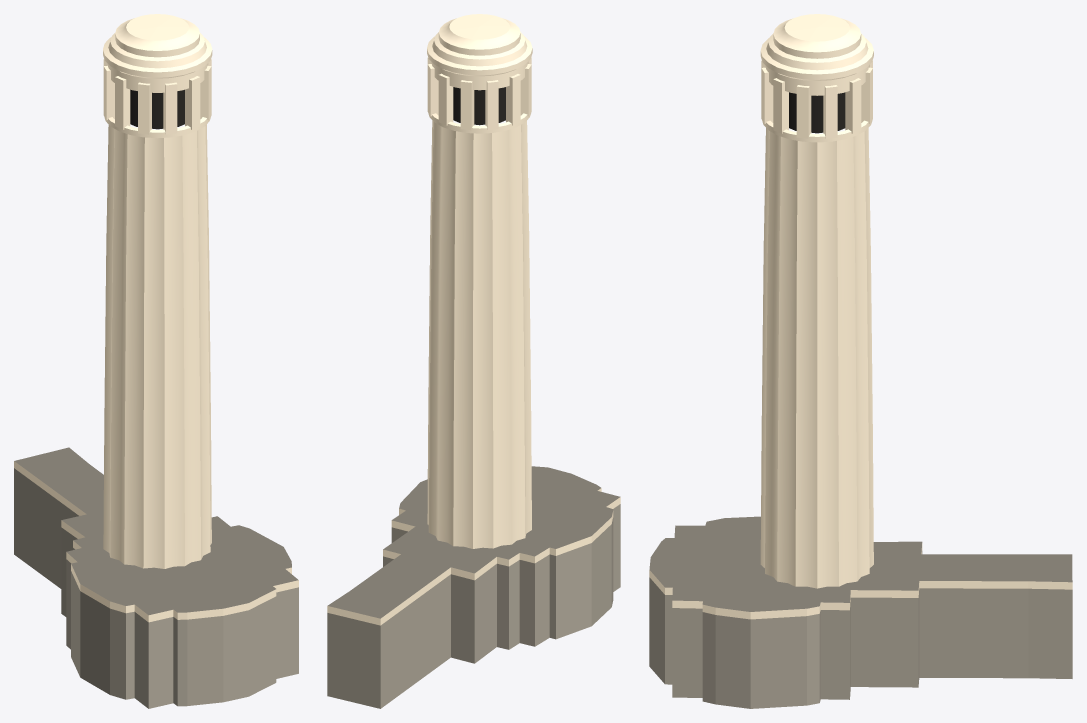
The model's file is coit-tower.glb.
3 views of the same model, side by side, from view 1: azimuth 30°, elevation 25°; view 2: azimuth 150°, elevation 25°; view 3: azimuth 270°, elevation 25° (orthographic). The views are drawn at different scales.
Parts seen in each view (by area): view 1: column, base; view 2: column, base; view 3: column, base.
Part boxes in pixels (x1,y1,x2,y2): column: [103, 14, 212, 568]; base: [14, 447, 298, 708]; column: [427, 14, 532, 548]; base: [327, 466, 620, 708]; column: [760, 14, 873, 588]; base: [649, 516, 1072, 708].
Size of the model in its own units: 22.3 by 68.52 by 41.42.
